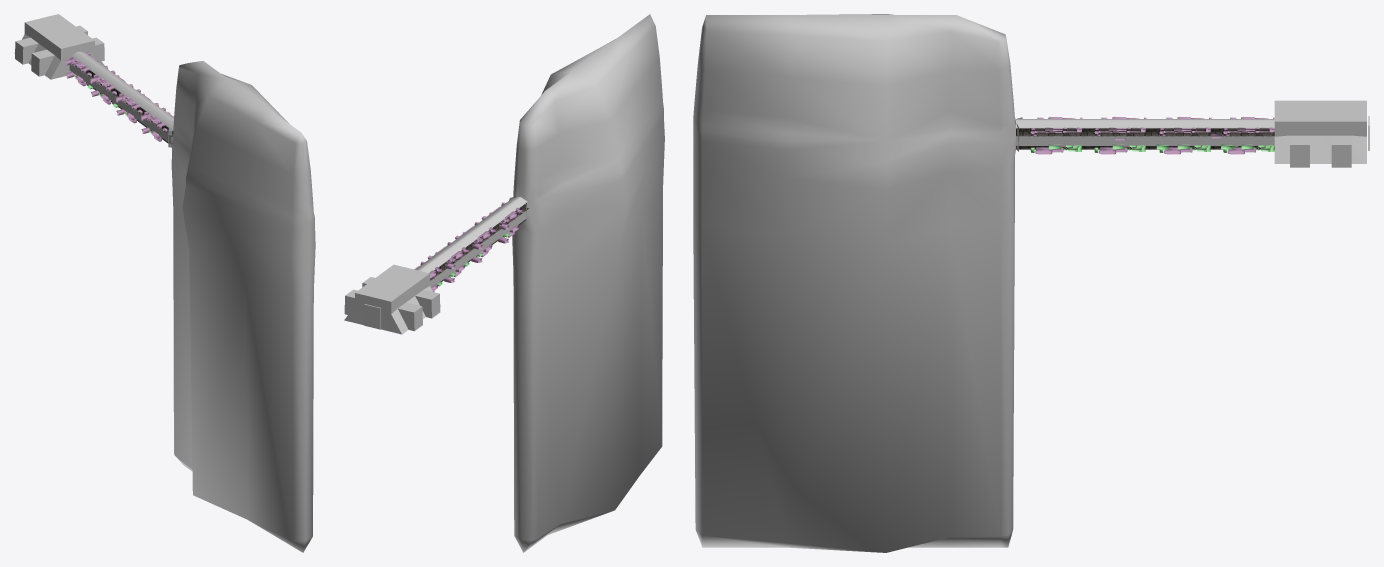
Rendered from FinalTomb.FBX.
The picture shows the model from 3 angles, left to right: view 1: azimuth 30°, elevation 25°; view 2: azimuth 150°, elevation 25°; view 3: azimuth 270°, elevation 25°; orthographic projection. The views are drawn at different scales.
Parts seen in each view (by area): view 1: FinalForeground, TombFinalRoom, Tomb_AlleyFinal, RockFinalAlley; view 2: FinalForeground, TombFinalRoom, Tomb_AlleyFinal, RockFinalAlley; view 3: FinalForeground, Tomb_AlleyFinal, TombFinalRoom, RockFinalAlley.
Boxes of the visible parts, x1,y1,x2,y2 form: FinalForeground: (168,61,315,552); TombFinalRoom: (14,14,104,79); Tomb_AlleyFinal: (69,51,173,144); RockFinalAlley: (65,52,173,141); FinalForeground: (509,14,664,552); TombFinalRoom: (344,264,440,334); Tomb_AlleyFinal: (415,197,529,287); RockFinalAlley: (414,202,523,291); FinalForeground: (693,14,1022,552); Tomb_AlleyFinal: (1016,119,1274,149); TombFinalRoom: (1274,100,1366,167); RockFinalAlley: (1030,116,1274,154).
Bounding box in the file's own units: 2442 × 10126 × 11658.
